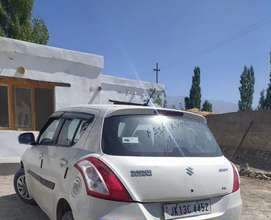JK13C4452: (163, 199, 211, 219)
